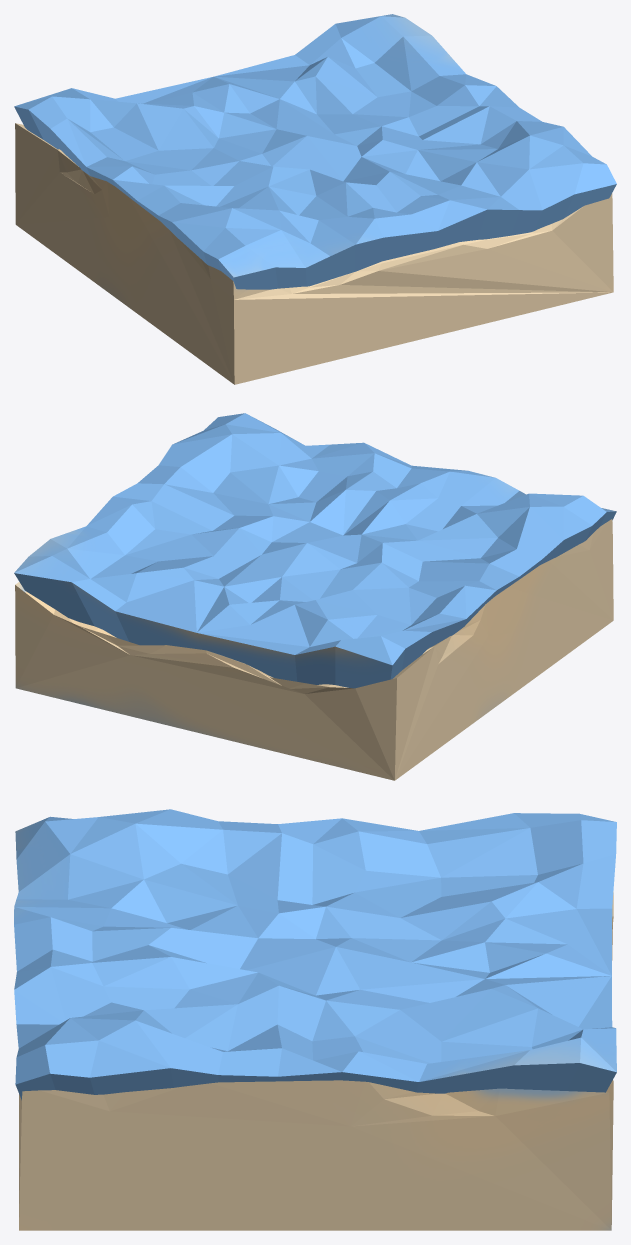
File: Terrain.fbx
3 renders of one model, top to bottom at view 1: azimuth 30°, elevation 25°; view 2: azimuth 150°, elevation 25°; view 3: azimuth 270°, elevation 25°, orthographic. The views are drawn at different scales.
Parts seen in each view (by area): view 1: Cube; view 2: Cube; view 3: Cube.
Boxes of the visible parts, <box> form: Cube: <box>14,14,616,384</box>; Cube: <box>14,413,616,780</box>; Cube: <box>14,809,616,1230</box>.
Bounding box in the file's own units: 207 × 68.23 × 203.
1 material, 1 textured.
